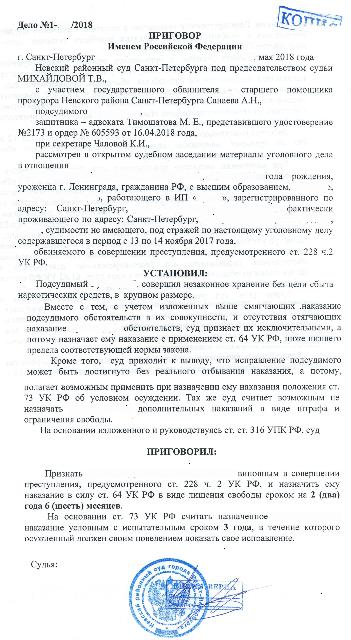stamp: (128, 556, 209, 636)
